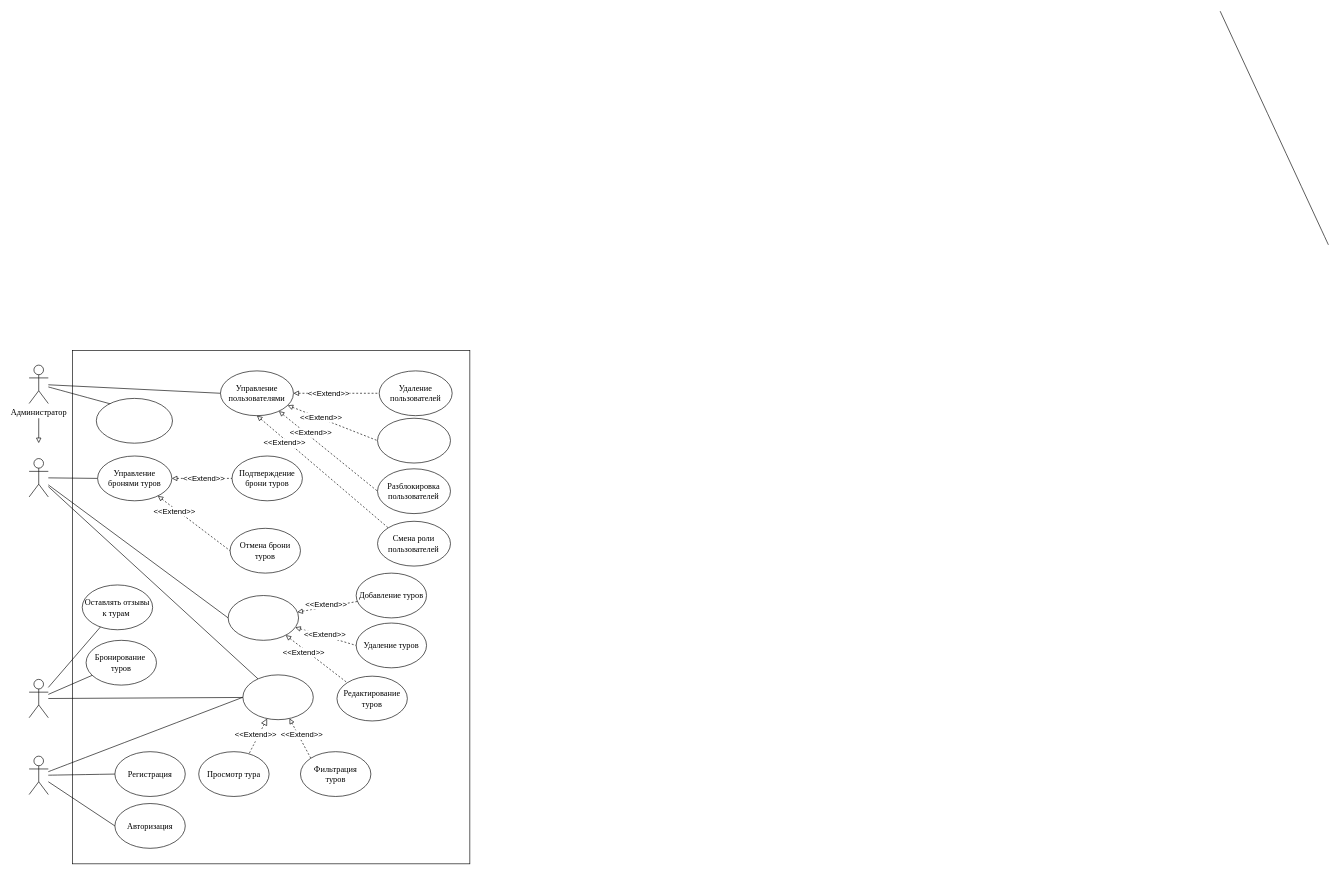
The diagram is 1340 pixels wide and 876 high, and some of its shapes have lost their labels. Each missing label, with the box of its shape:
Блокировка пользователей: (377, 418, 450, 463)
Гость: (28, 756, 48, 795)
Менеджер: (28, 458, 48, 497)
Пользователь: (28, 679, 48, 718)
Просмотр туров: (242, 674, 313, 720)
Удаление отзывов к турам: (96, 398, 172, 443)
Управление турами: (228, 595, 299, 640)
